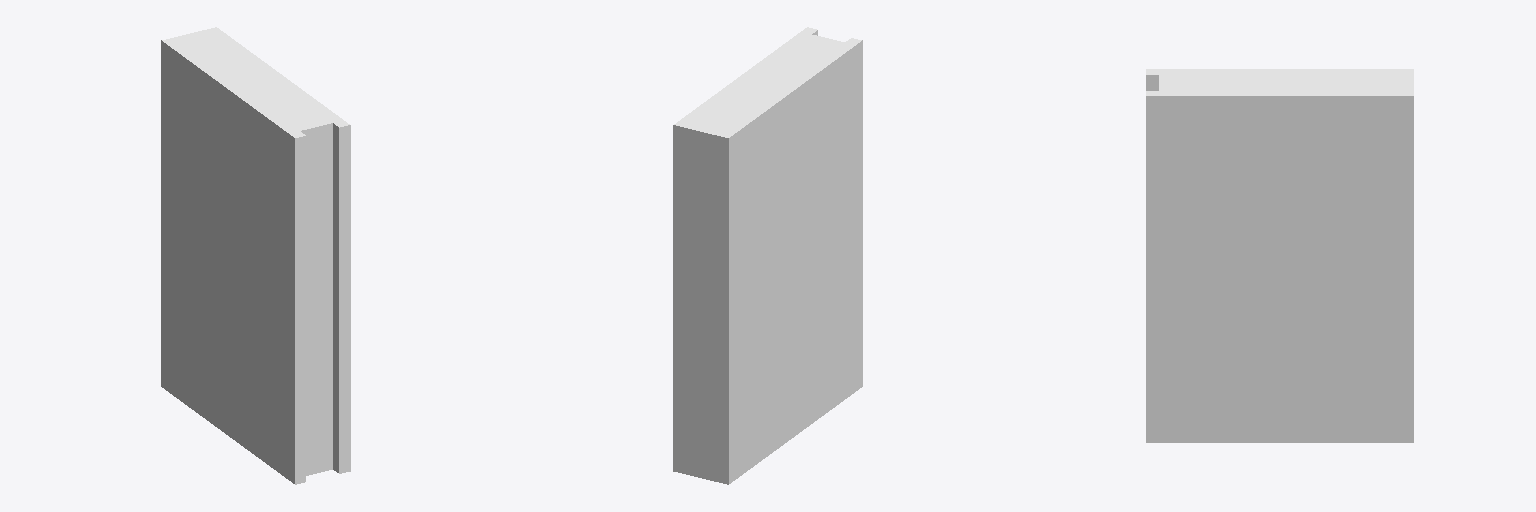
File: _17_Model_Book.obj
The picture shows the model from 3 angles: view 1: azimuth 30°, elevation 25°; view 2: azimuth 150°, elevation 25°; view 3: azimuth 270°, elevation 25°; orthographic projection.
Parts seen in each view (by area): view 1: _17_Model_Book; view 2: _17_Model_Book; view 3: _17_Model_Book.
Part boxes in pixels (x1,y1,x2,y2): _17_Model_Book: (161, 27, 350, 484); _17_Model_Book: (673, 27, 862, 484); _17_Model_Book: (1146, 69, 1413, 442).
Size of the model in its own units: 5 by 30 by 21.